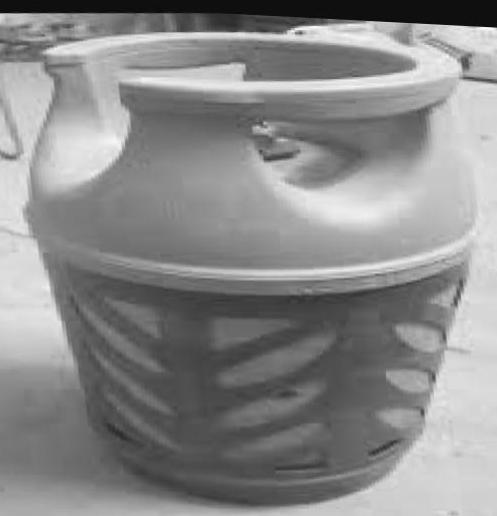cylinder: (1, 1, 497, 516)
